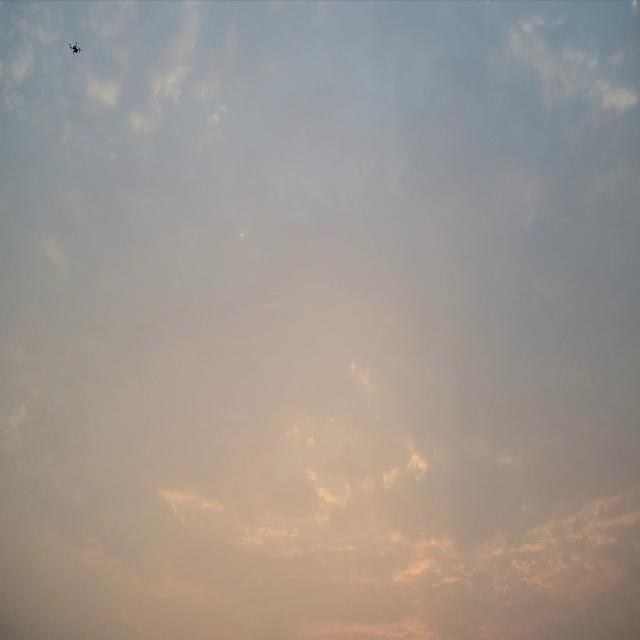drone: (69, 41, 82, 55)
